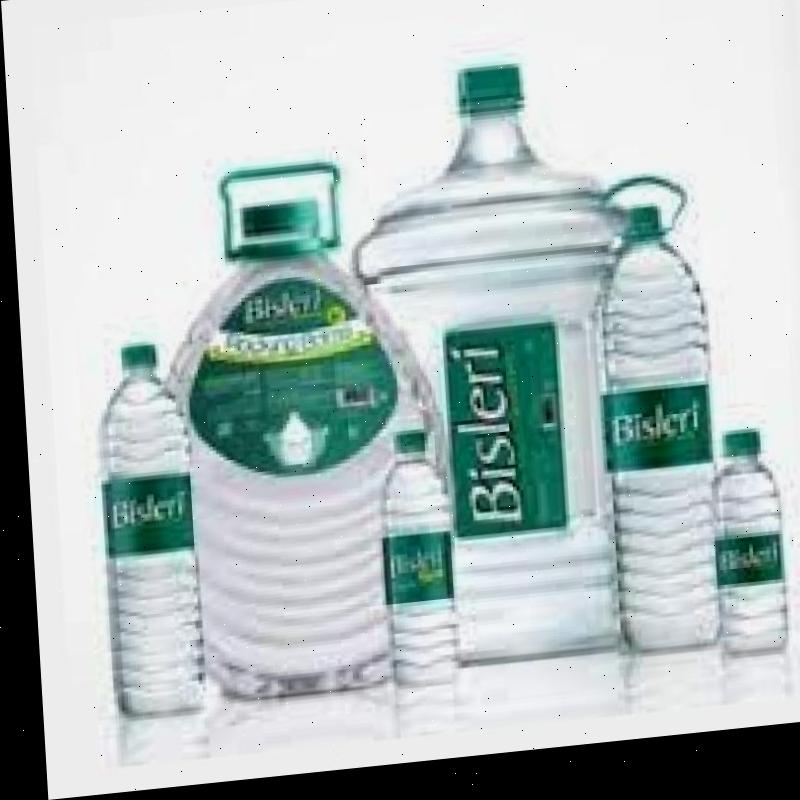botella: (585, 217, 717, 666), (91, 345, 201, 725), (371, 436, 454, 696), (704, 444, 783, 674)
